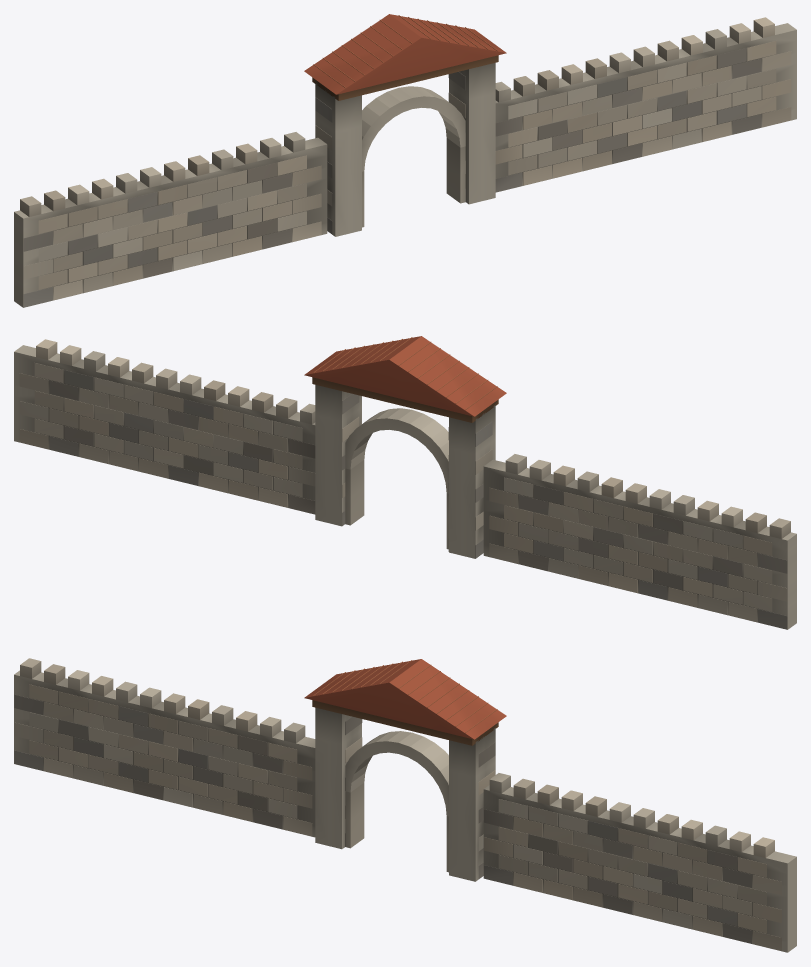
File: 05_inner_wall.glb
The picture shows the model from 3 angles, top to bottom: view 1: azimuth 30°, elevation 25°; view 2: azimuth 150°, elevation 25°; view 3: azimuth 330°, elevation 25°; orthographic projection.
Visible parts, largest first — view 1: 05_inner_wall_ashlar_nocol, 05_inner_wall_stone, 05_inner_wall_mortar_nocol, 05_inner_wall_ashlar, 05_inner_wall_roof, 05_inner_wall_wood, 05_inner_wall_rooflight_nocol; view 2: 05_inner_wall_ashlar_nocol, 05_inner_wall_stone, 05_inner_wall_mortar_nocol, 05_inner_wall_ashlar, 05_inner_wall_roof, 05_inner_wall_wood, 05_inner_wall_rooflight_nocol; view 3: 05_inner_wall_ashlar_nocol, 05_inner_wall_stone, 05_inner_wall_mortar_nocol, 05_inner_wall_ashlar, 05_inner_wall_roof, 05_inner_wall_wood, 05_inner_wall_rooflight_nocol.
Boxes of the visible parts, bbox=[...] form: 05_inner_wall_ashlar_nocol: bbox=[23, 41, 791, 300]; 05_inner_wall_stone: bbox=[14, 23, 796, 307]; 05_inner_wall_mortar_nocol: bbox=[23, 48, 761, 307]; 05_inner_wall_ashlar: bbox=[20, 17, 774, 216]; 05_inner_wall_roof: bbox=[304, 14, 506, 94]; 05_inner_wall_wood: bbox=[312, 55, 498, 100]; 05_inner_wall_rooflight_nocol: bbox=[313, 15, 497, 88]; 05_inner_wall_ashlar_nocol: bbox=[19, 363, 787, 622]; 05_inner_wall_stone: bbox=[14, 345, 796, 629]; 05_inner_wall_mortar_nocol: bbox=[49, 370, 787, 629]; 05_inner_wall_ashlar: bbox=[36, 339, 790, 538]; 05_inner_wall_roof: bbox=[304, 336, 506, 416]; 05_inner_wall_wood: bbox=[312, 377, 498, 422]; 05_inner_wall_rooflight_nocol: bbox=[313, 337, 497, 410]; 05_inner_wall_ashlar_nocol: bbox=[14, 684, 781, 950]; 05_inner_wall_stone: bbox=[14, 670, 796, 952]; 05_inner_wall_mortar_nocol: bbox=[14, 694, 751, 943]; 05_inner_wall_ashlar: bbox=[20, 658, 774, 857]; 05_inner_wall_roof: bbox=[304, 659, 506, 739]; 05_inner_wall_wood: bbox=[312, 700, 498, 745]; 05_inner_wall_rooflight_nocol: bbox=[313, 660, 497, 733].
Bounding box in the file's own units: 290 × 66 × 21.
